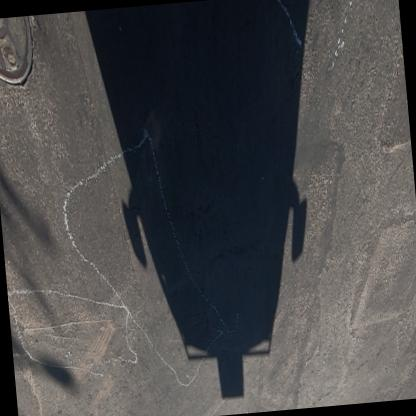manholes: (0, 14, 41, 97)
